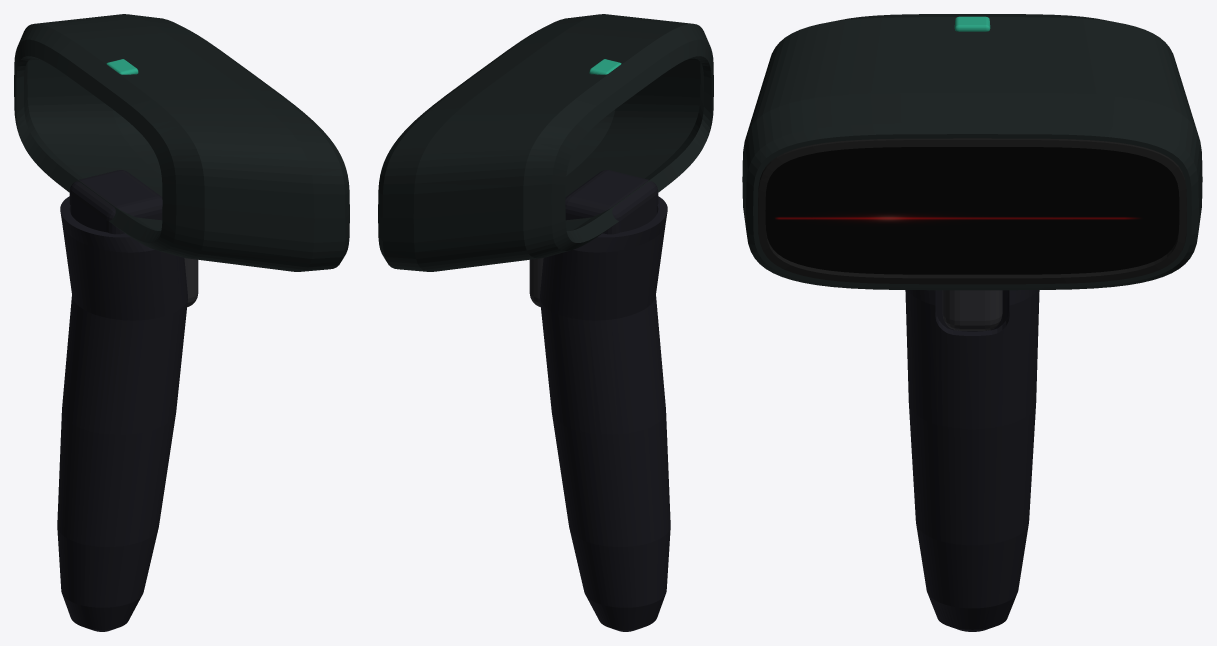
The picture shows the model from 3 angles, left to right: view 1: azimuth 30°, elevation 25°; view 2: azimuth 150°, elevation 25°; view 3: azimuth 270°, elevation 25°; orthographic projection. The views are drawn at different scales.
Visible parts, largest first — view 1: visual_part_000_0_4, visual_part_000_0_1, visual_part_001_0_0; view 2: visual_part_000_0_4, visual_part_000_0_1, visual_part_001_0_0; view 3: visual_part_000_0_4, visual_part_000_0_2, visual_part_000_0_1, visual_part_000_0_3, visual_part_001_0_0.
Boxes of the visible parts, <box> form: visual_part_000_0_4: <box>14,14,349,271</box>; visual_part_000_0_1: <box>57,170,187,631</box>; visual_part_001_0_0: <box>184,258,198,307</box>; visual_part_000_0_4: <box>378,14,713,271</box>; visual_part_000_0_1: <box>540,170,670,631</box>; visual_part_001_0_0: <box>529,258,543,307</box>; visual_part_000_0_4: <box>742,14,1202,290</box>; visual_part_000_0_2: <box>765,147,1179,274</box>; visual_part_000_0_1: <box>905,290,1039,631</box>; visual_part_000_0_3: <box>758,138,1186,284</box>; visual_part_001_0_0: <box>942,290,1002,330</box>.
Size of the model in its own units: 0.0691 by 0.1924 by 0.13.
6 materials, 1 textured.
